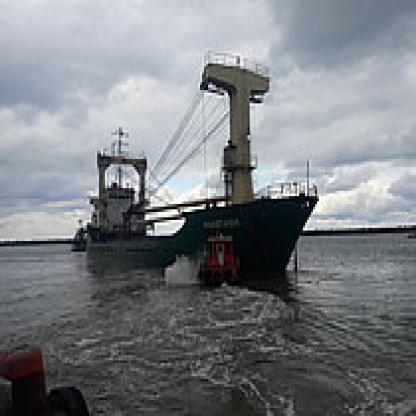Tanker: (81, 177, 327, 289)
